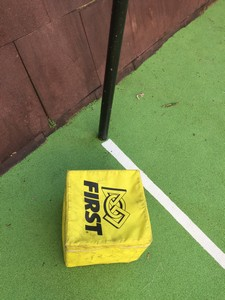cube: (60, 172, 154, 266)
